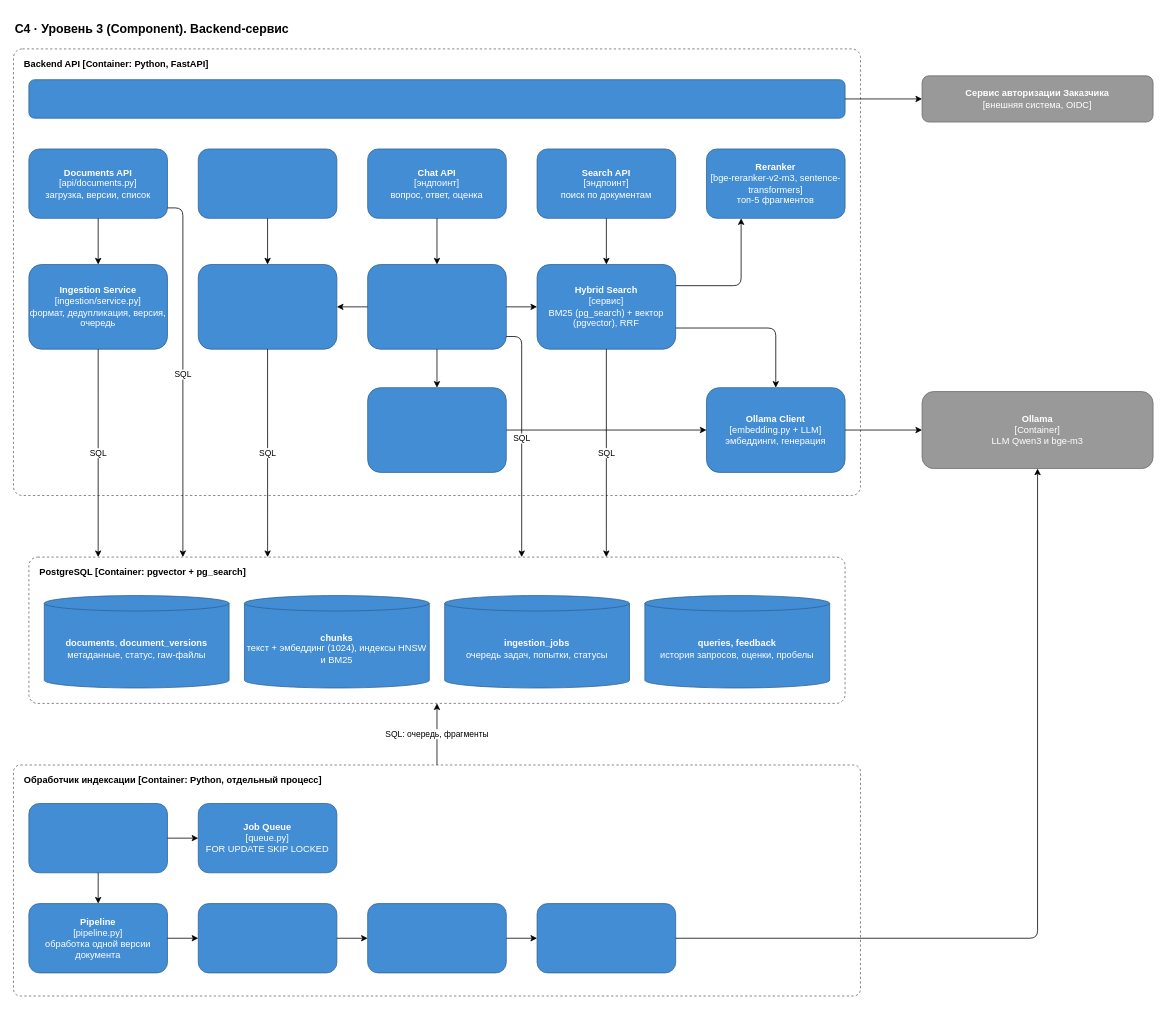
Some shapes in this 1167 by 1009 pixel diagram are drawn without their labels. Here are the shapes that lost their labels. From the top down, the box of each, then its label:
(28, 79, 845, 118): Авторизация [OIDC middleware]: проверка токена, роли и уровни доступа
(198, 148, 337, 218): Gaps API [эндпоинт] дашборд пробелов
(198, 264, 337, 349): Gap Analytics [сервис] вопросы без ответа и с плохой оценкой
(367, 264, 506, 349): RAG Orchestrator [сервис] контекст, промпт, ответ со ссылками
(367, 387, 506, 472): Антигаллюцинационный контур [сервис] порог → отказ без LLM; проверка ссылок
(28, 803, 167, 873): Worker Loop [worker.py] опрос очереди, повторы, статусы
(198, 903, 337, 973): Parser [parsing.py] DOCX → Markdown
(367, 903, 506, 973): Chunker [chunking.py] нарезка по структуре документа
(536, 903, 676, 973): Embedding Client [embedding.py] батчи в Ollama /api/embed
